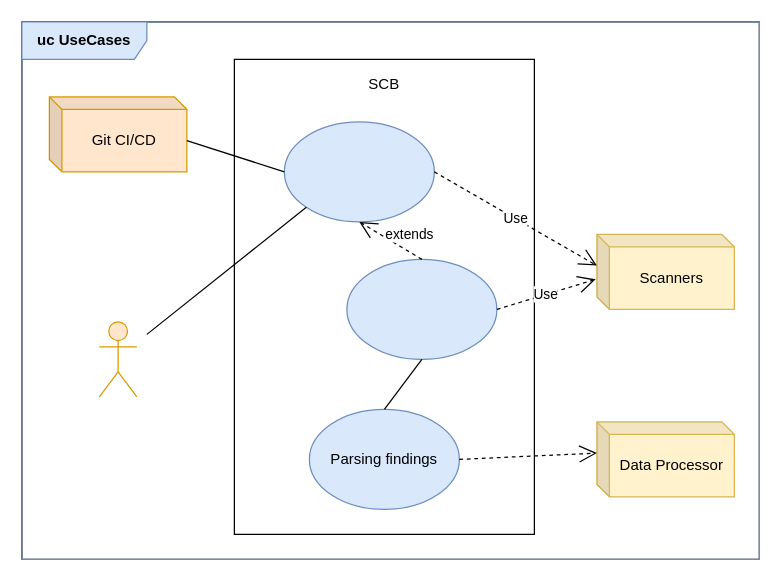
Some shapes in this 781 by 581 pixel diagram are drawn without their labels. The shapes that lost their labels are listed below. From the top down, each one's centre as x and y in pixels, then its label:
At (358,171): "Initiating scans".
At (421,308): "Initiate scan, based on results".
At (117,359): "Tester".
